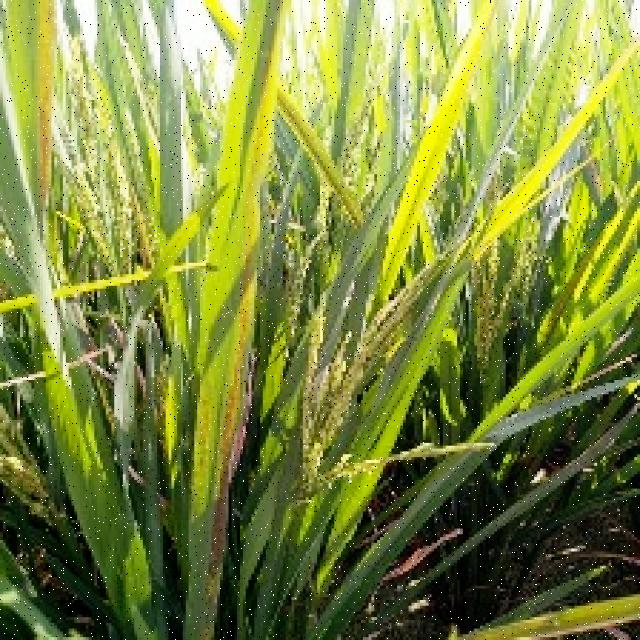-: (362, 0, 640, 216)
